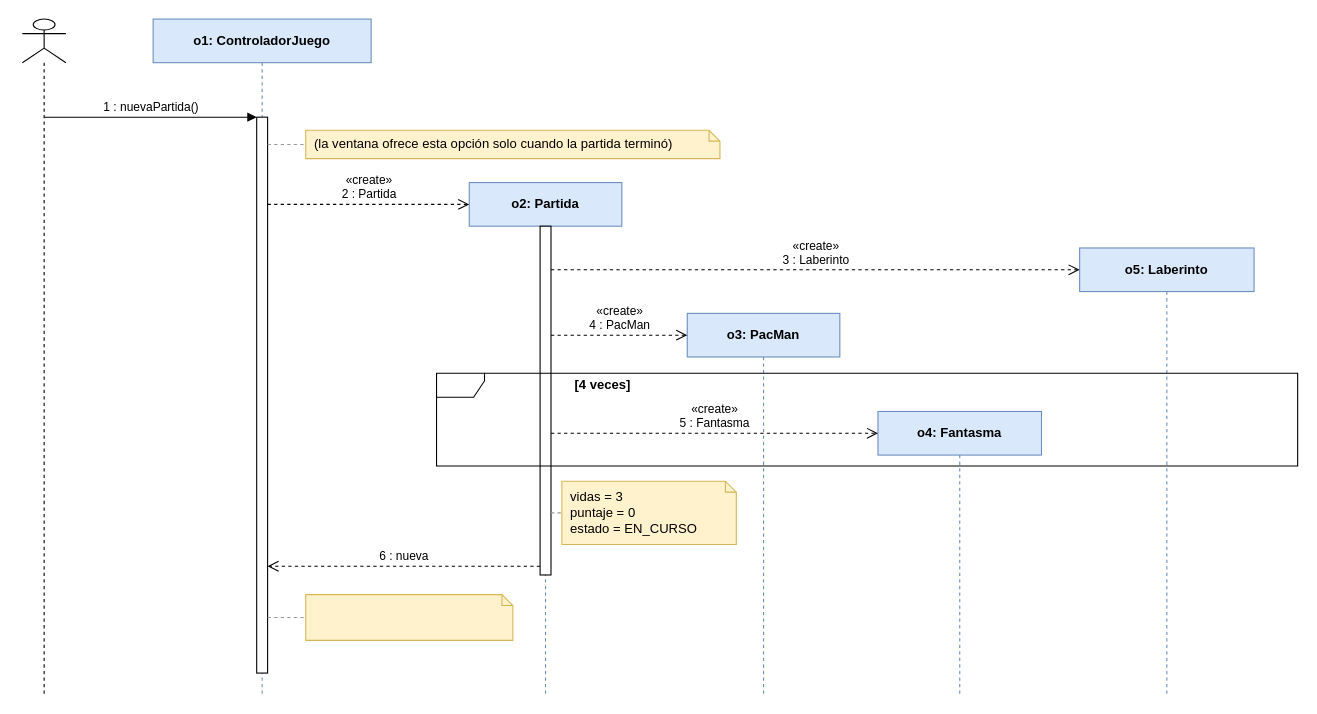
This 1317x714 diagram has some shape labels left out. The box of each missing label's shape, as (x1, y1, x2, y2) in pixels:
Jugador: (21, 18, 66, 695)
loop: (435, 372, 1298, 466)
partida = nueva (la anterior se descarta): (305, 594, 513, 640)
